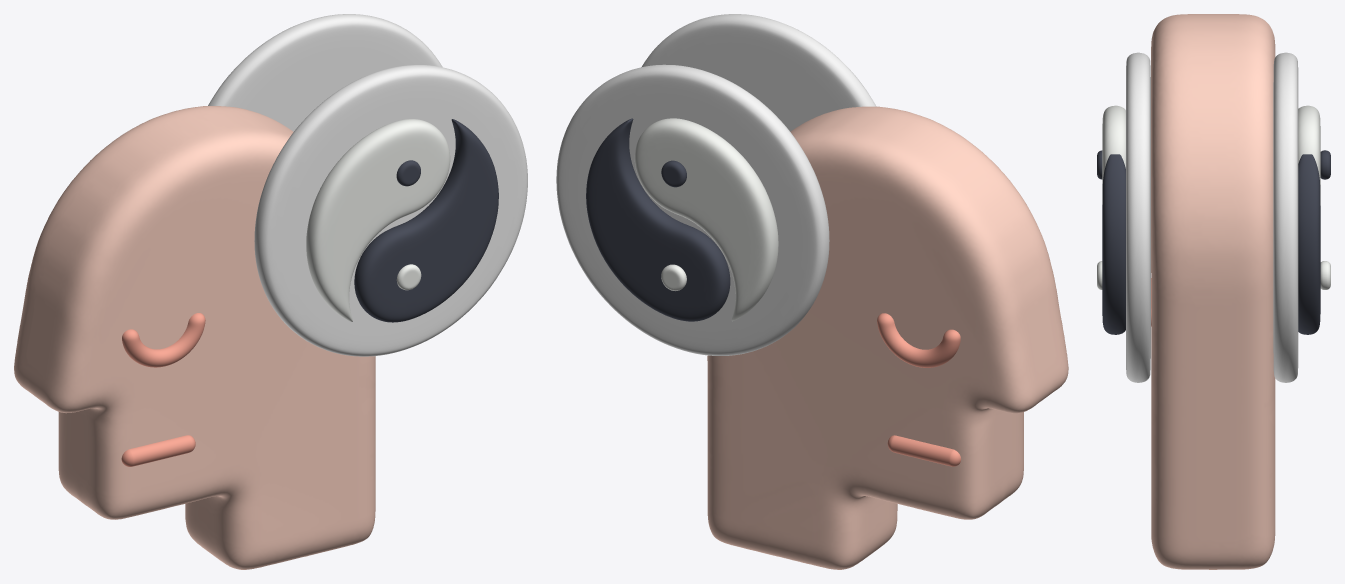
Rendered from meditation-transformed.glb.
The picture shows the model from 3 angles, left to right: view 1: azimuth 30°, elevation 25°; view 2: azimuth 150°, elevation 25°; view 3: azimuth 270°, elevation 25°; orthographic projection. The views are drawn at different scales.
Visible parts, largest first — view 1: Circle, Cylinder.001, Curve.004, Curve.005, Cylinder.003, Circle.001, Sphere.001; view 2: Circle, Cylinder.003, Curve.002, Curve.001, Cylinder.001, Circle.002, Sphere.002; view 3: Circle, Cylinder.003, Cylinder.001, Curve.004, Curve.002, Curve.005, Curve.001, Cylinder.005, Cylinder.004.
Boxes of the visible parts, <box> form: Circle: <box>14,106,375,569</box>; Cylinder.001: <box>254,65,527,356</box>; Curve.004: <box>354,119,498,322</box>; Curve.005: <box>306,119,450,321</box>; Cylinder.003: <box>208,14,442,131</box>; Circle.001: <box>122,313,205,367</box>; Sphere.001: <box>121,435,195,466</box>; Circle: <box>707,106,1068,569</box>; Cylinder.003: <box>556,64,829,355</box>; Curve.002: <box>586,118,730,321</box>; Curve.001: <box>634,118,778,321</box>; Cylinder.001: <box>641,14,876,131</box>; Circle.002: <box>877,313,960,367</box>; Sphere.002: <box>887,435,961,466</box>; Circle: <box>1151,14,1275,569</box>; Cylinder.003: <box>1273,52,1298,382</box>; Cylinder.001: <box>1126,52,1150,382</box>; Curve.004: <box>1102,154,1125,334</box>; Curve.002: <box>1298,154,1320,334</box>; Curve.005: <box>1102,105,1125,204</box>; Curve.001: <box>1298,105,1320,205</box>; Cylinder.005: <box>1320,150,1330,179</box>; Cylinder.004: <box>1320,261,1330,289</box>.
Size of the model in its own units: 4.49 by 4.52 by 1.87.
